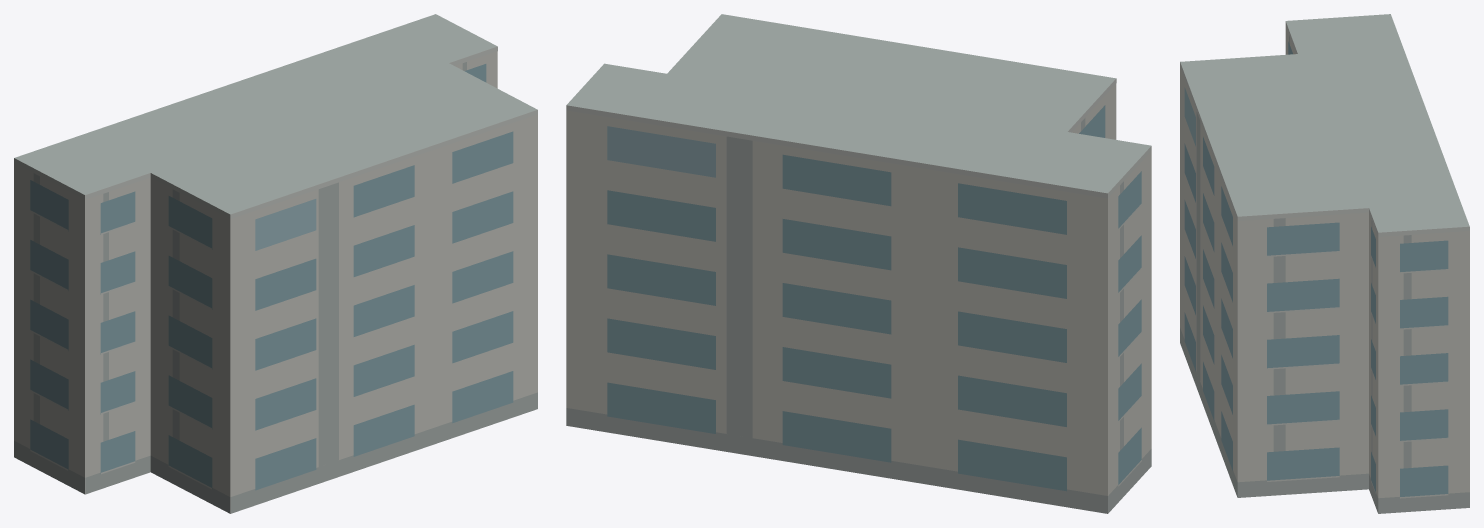
File: residential-3e8ec38f-480a-48b4-8775-3df82d5c3a94.glb
The picture shows the model from 3 angles, left to right: view 1: azimuth 30°, elevation 25°; view 2: azimuth 150°, elevation 25°; view 3: azimuth 270°, elevation 25°; orthographic projection. The views are drawn at different scales.
Parts seen in each view (by area): view 1: residential-3e8ec38f-480a-48b4-8775-3df82d5c3a94.tmp; view 2: residential-3e8ec38f-480a-48b4-8775-3df82d5c3a94.tmp; view 3: residential-3e8ec38f-480a-48b4-8775-3df82d5c3a94.tmp.
Part boxes in pixels (bbox=[...]): residential-3e8ec38f-480a-48b4-8775-3df82d5c3a94.tmp: bbox=[14, 14, 537, 513]; residential-3e8ec38f-480a-48b4-8775-3df82d5c3a94.tmp: bbox=[566, 14, 1151, 513]; residential-3e8ec38f-480a-48b4-8775-3df82d5c3a94.tmp: bbox=[1180, 14, 1469, 513].
Bounding box in the file's own units: 25.44 × 15.25 × 14.25.
